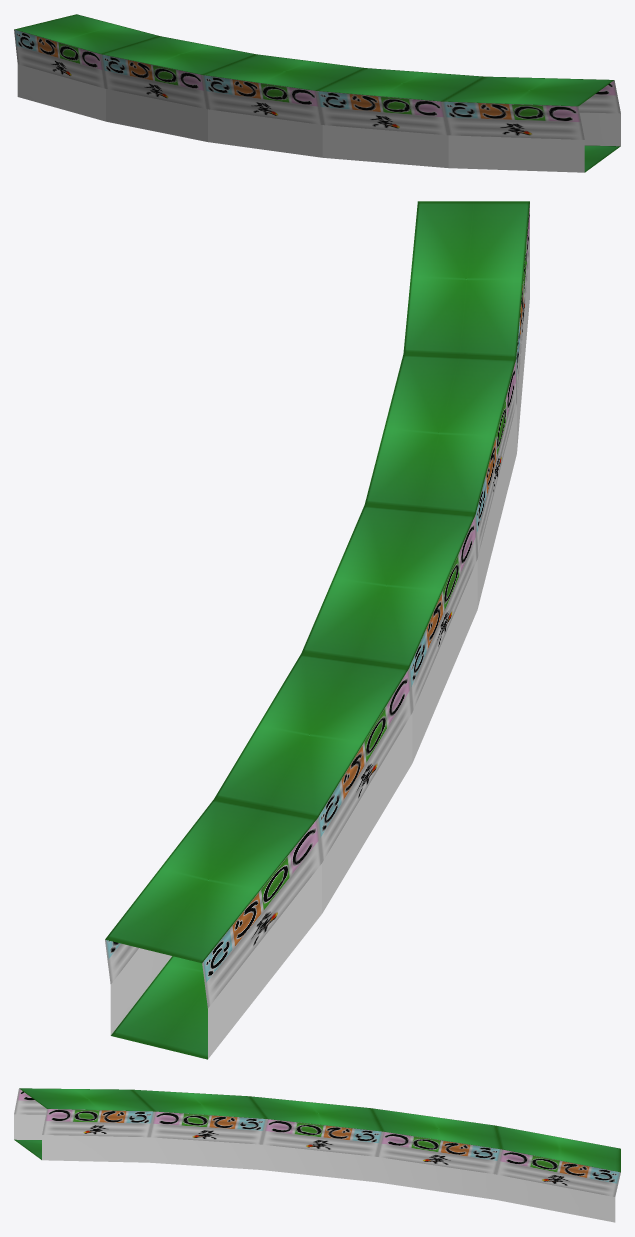
The model's file is CourseSpring_Box_Wall_R_4.fbx.
The picture shows the model from 3 angles, top to bottom: view 1: azimuth 30°, elevation 25°; view 2: azimuth 150°, elevation 25°; view 3: azimuth 270°, elevation 25°; orthographic projection. The views are drawn at different scales.
Visible parts, largest first — view 1: polySurface34; view 2: polySurface34; view 3: polySurface34.
Boxes of the visible parts, x1,y1,x2,y2 form: polySurface34: (14, 14, 620, 172); polySurface34: (105, 201, 529, 1059); polySurface34: (14, 1088, 620, 1222).
Size of the model in its own units: 7.47 by 6.97 by 21.62.
1 material, 1 textured.
